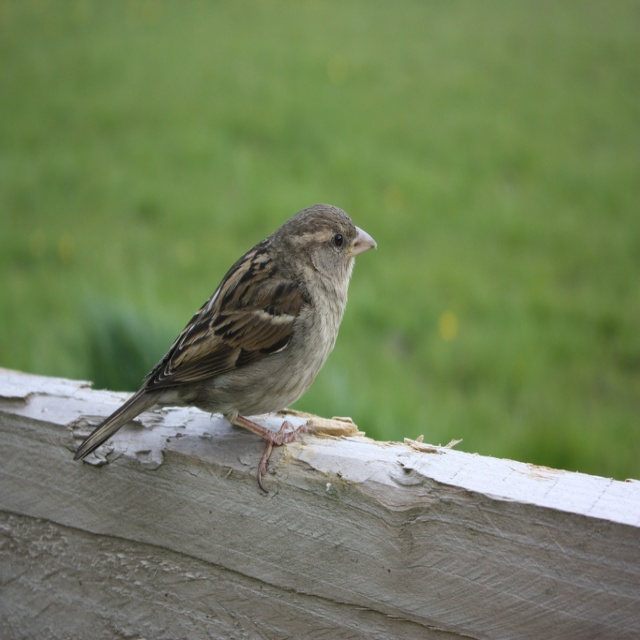Sparrow: (75, 196, 376, 493)
